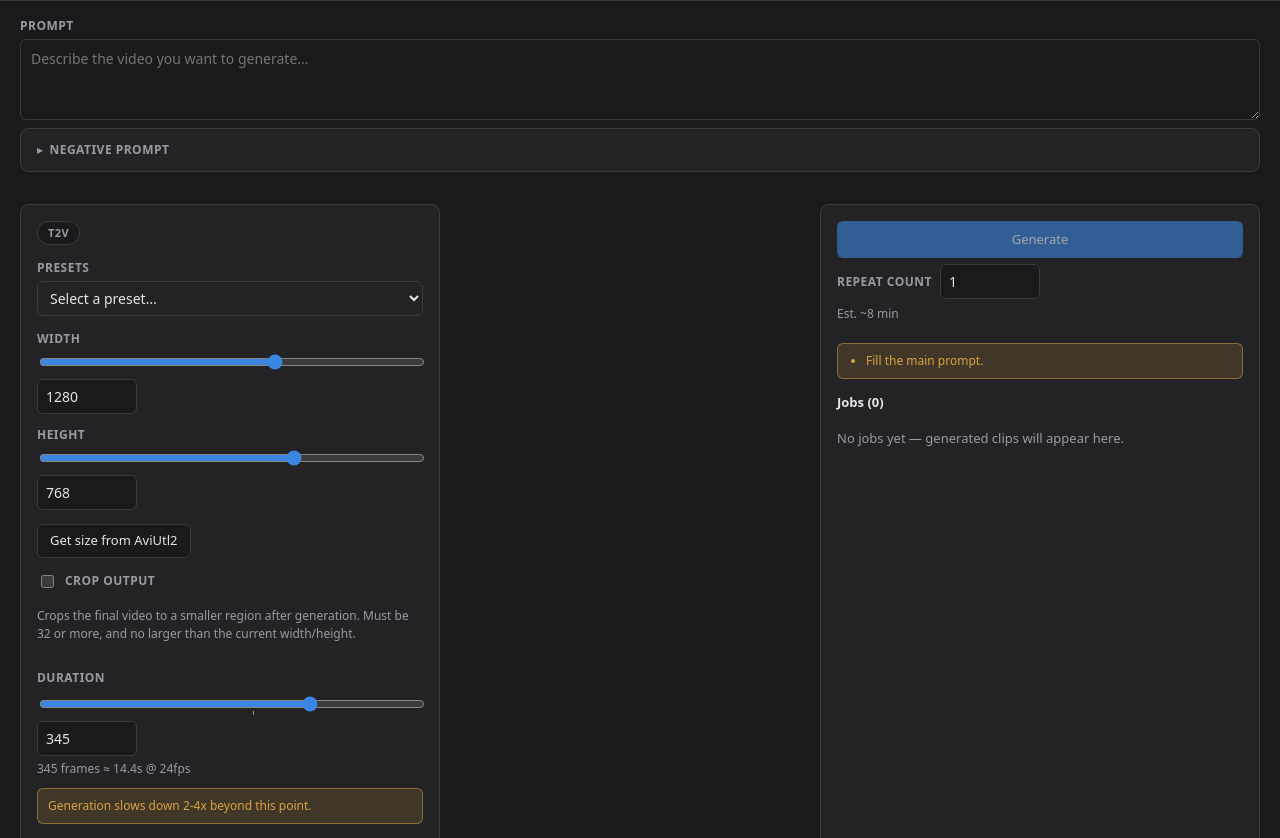
Test case: AppShell — IC-LoRA control-LoRA panel (第5波) › a hand-typed control-LoRA tag auto-migrates into the panel, strips the tag from the prompt, and toasts
The width and height of the screenshot is (1280, 838).
Expected: the button "Generate" is shown, [837, 220, 1243, 258]
In the text box with placeholder "Describe the video you want to generate…": (640, 79) [20, 38, 1260, 120], type "a cat <lora:canny-control:0.8>"
(page scrolled)
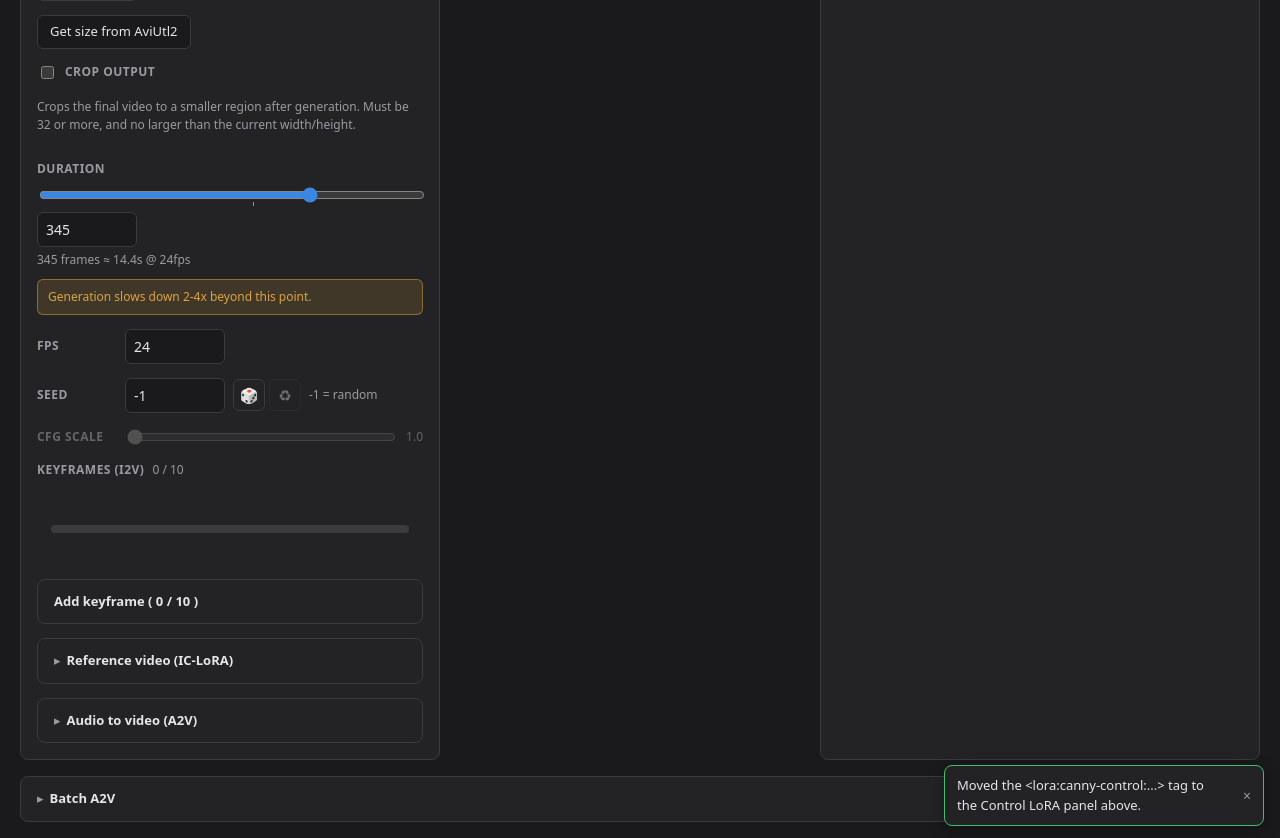
Expected: the 5th button is shown, [949, 770, 1227, 821]
Click the heading "Reference video (IC-LoRA)": (150, 660) [66, 651, 233, 669]
(page scrolled)
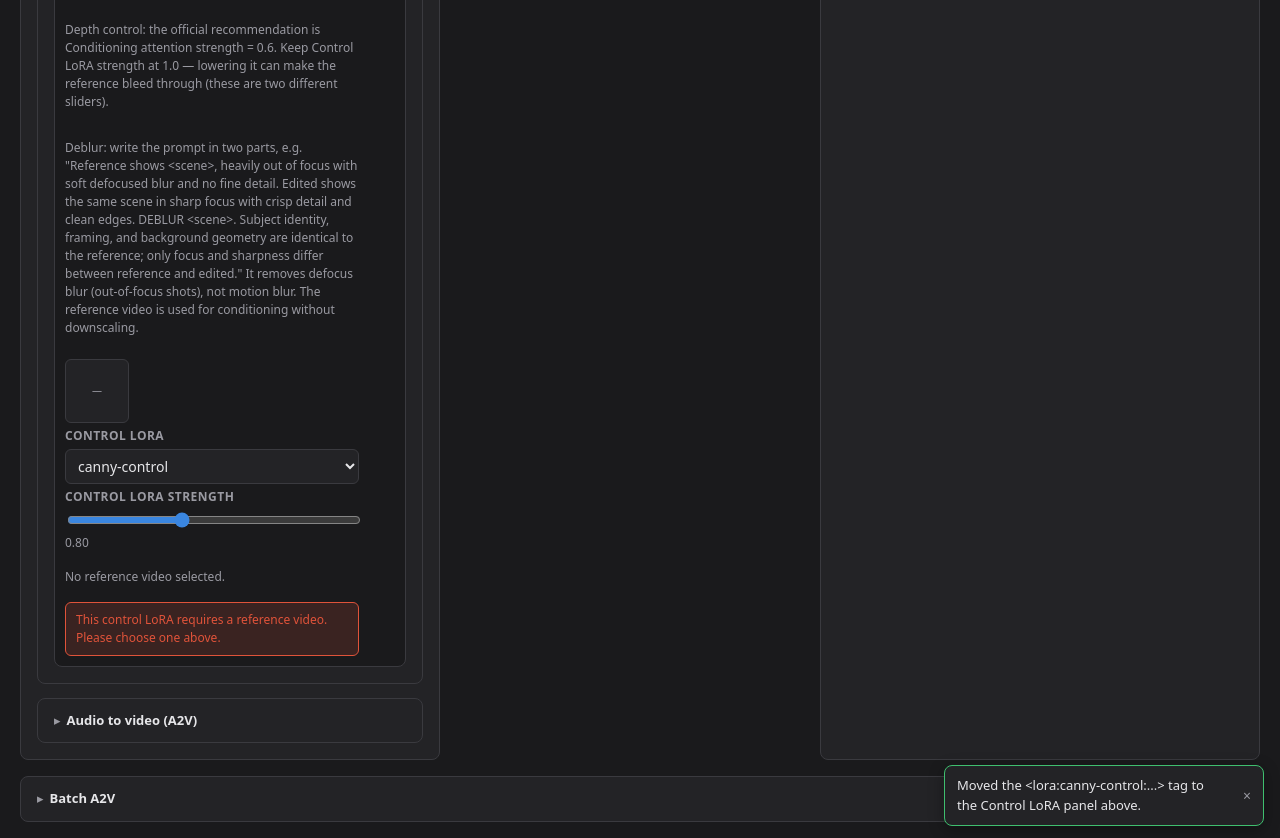
Expected: the dropdown labelled "Control LoRA" shows "canny-control", [65, 448, 359, 484]
